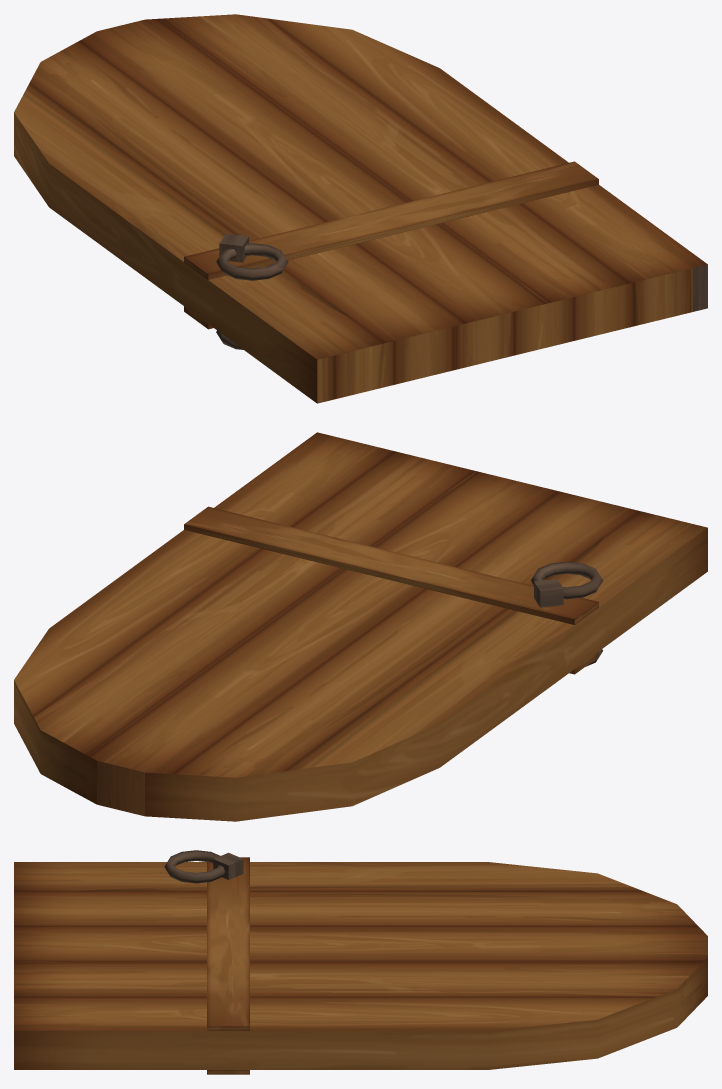
Rendered from Door.001.fbx.
3 views of the same model, one above another, from view 1: azimuth 30°, elevation 25°; view 2: azimuth 150°, elevation 25°; view 3: azimuth 270°, elevation 25° (orthographic). The views are drawn at different scales.
Parts seen in each view (by area): view 1: Door.001; view 2: Door.001; view 3: Door.001.
Part boxes in pixels (left/top/right/bottom): Door.001: left=14, top=14, right=707, bottom=403; Door.001: left=14, top=432, right=707, bottom=821; Door.001: left=14, top=850, right=707, bottom=1074.
Size of the model in its own units: 186 by 40 by 323.
